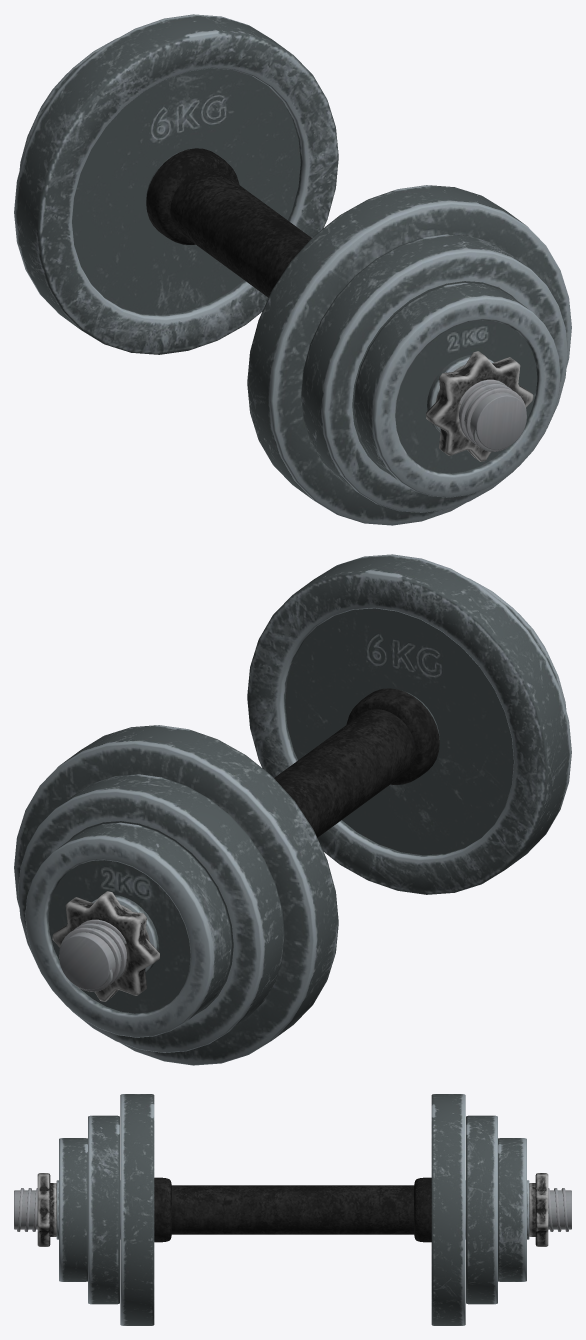
Rendered from dumbbells.glb.
3 renders of one model, top to bottom at view 1: azimuth 30°, elevation 25°; view 2: azimuth 150°, elevation 25°; view 3: azimuth 270°, elevation 25°, orthographic. The views are drawn at different scales.
Parts seen in each view (by area): view 1: dumbbells; view 2: dumbbells; view 3: dumbbells.
Boxes of the visible parts, x1,y1,x2,y2 form: dumbbells: [14, 14, 571, 525]; dumbbells: [14, 554, 571, 1065]; dumbbells: [14, 1094, 571, 1325].
Bounding box in the file's own units: 330 × 330 × 794.
Materials: 1 (1 with a texture image).
